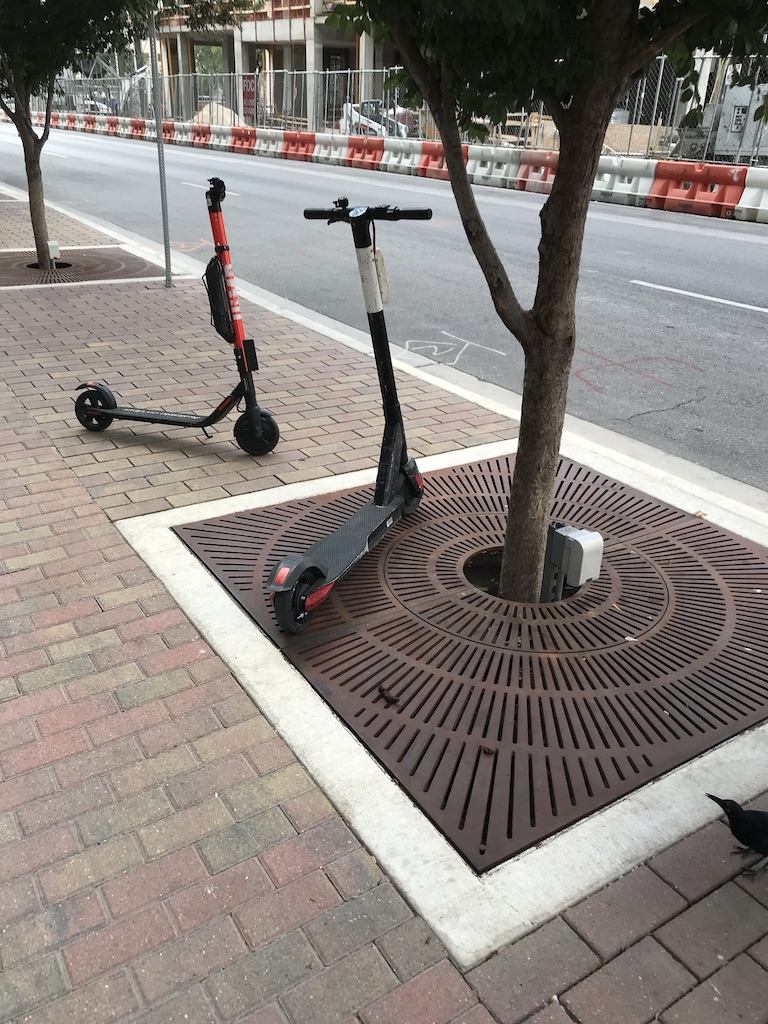scooter: (266, 198, 434, 637), (72, 179, 284, 460)
